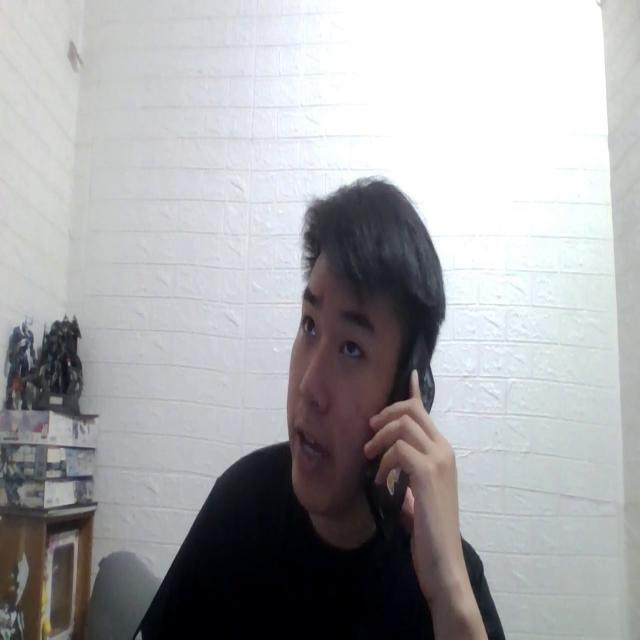phone: (370, 315, 435, 522)
student: (136, 175, 506, 640)
